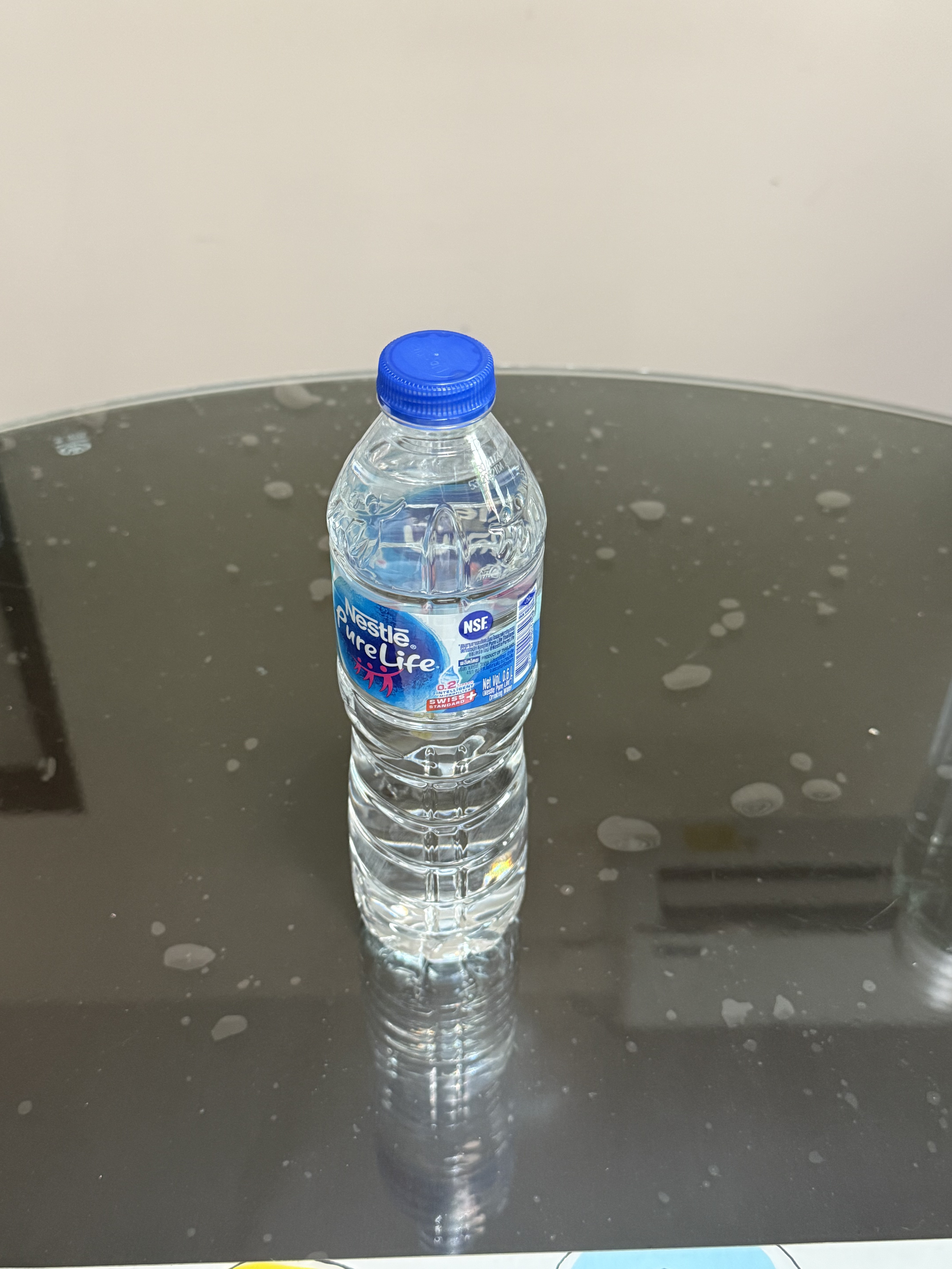closed_cap: (374, 326, 498, 427)
